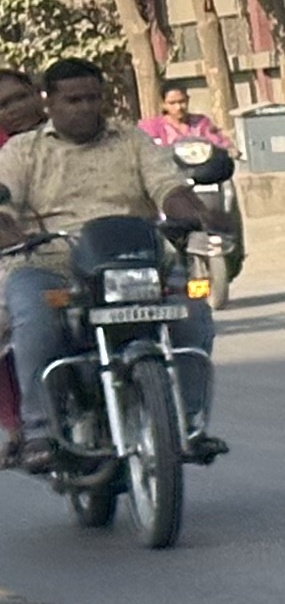BikeWithRider: (0, 43, 232, 556), (129, 73, 252, 309)
NoHelmet: (40, 58, 117, 140), (0, 64, 45, 147), (155, 81, 200, 124)
